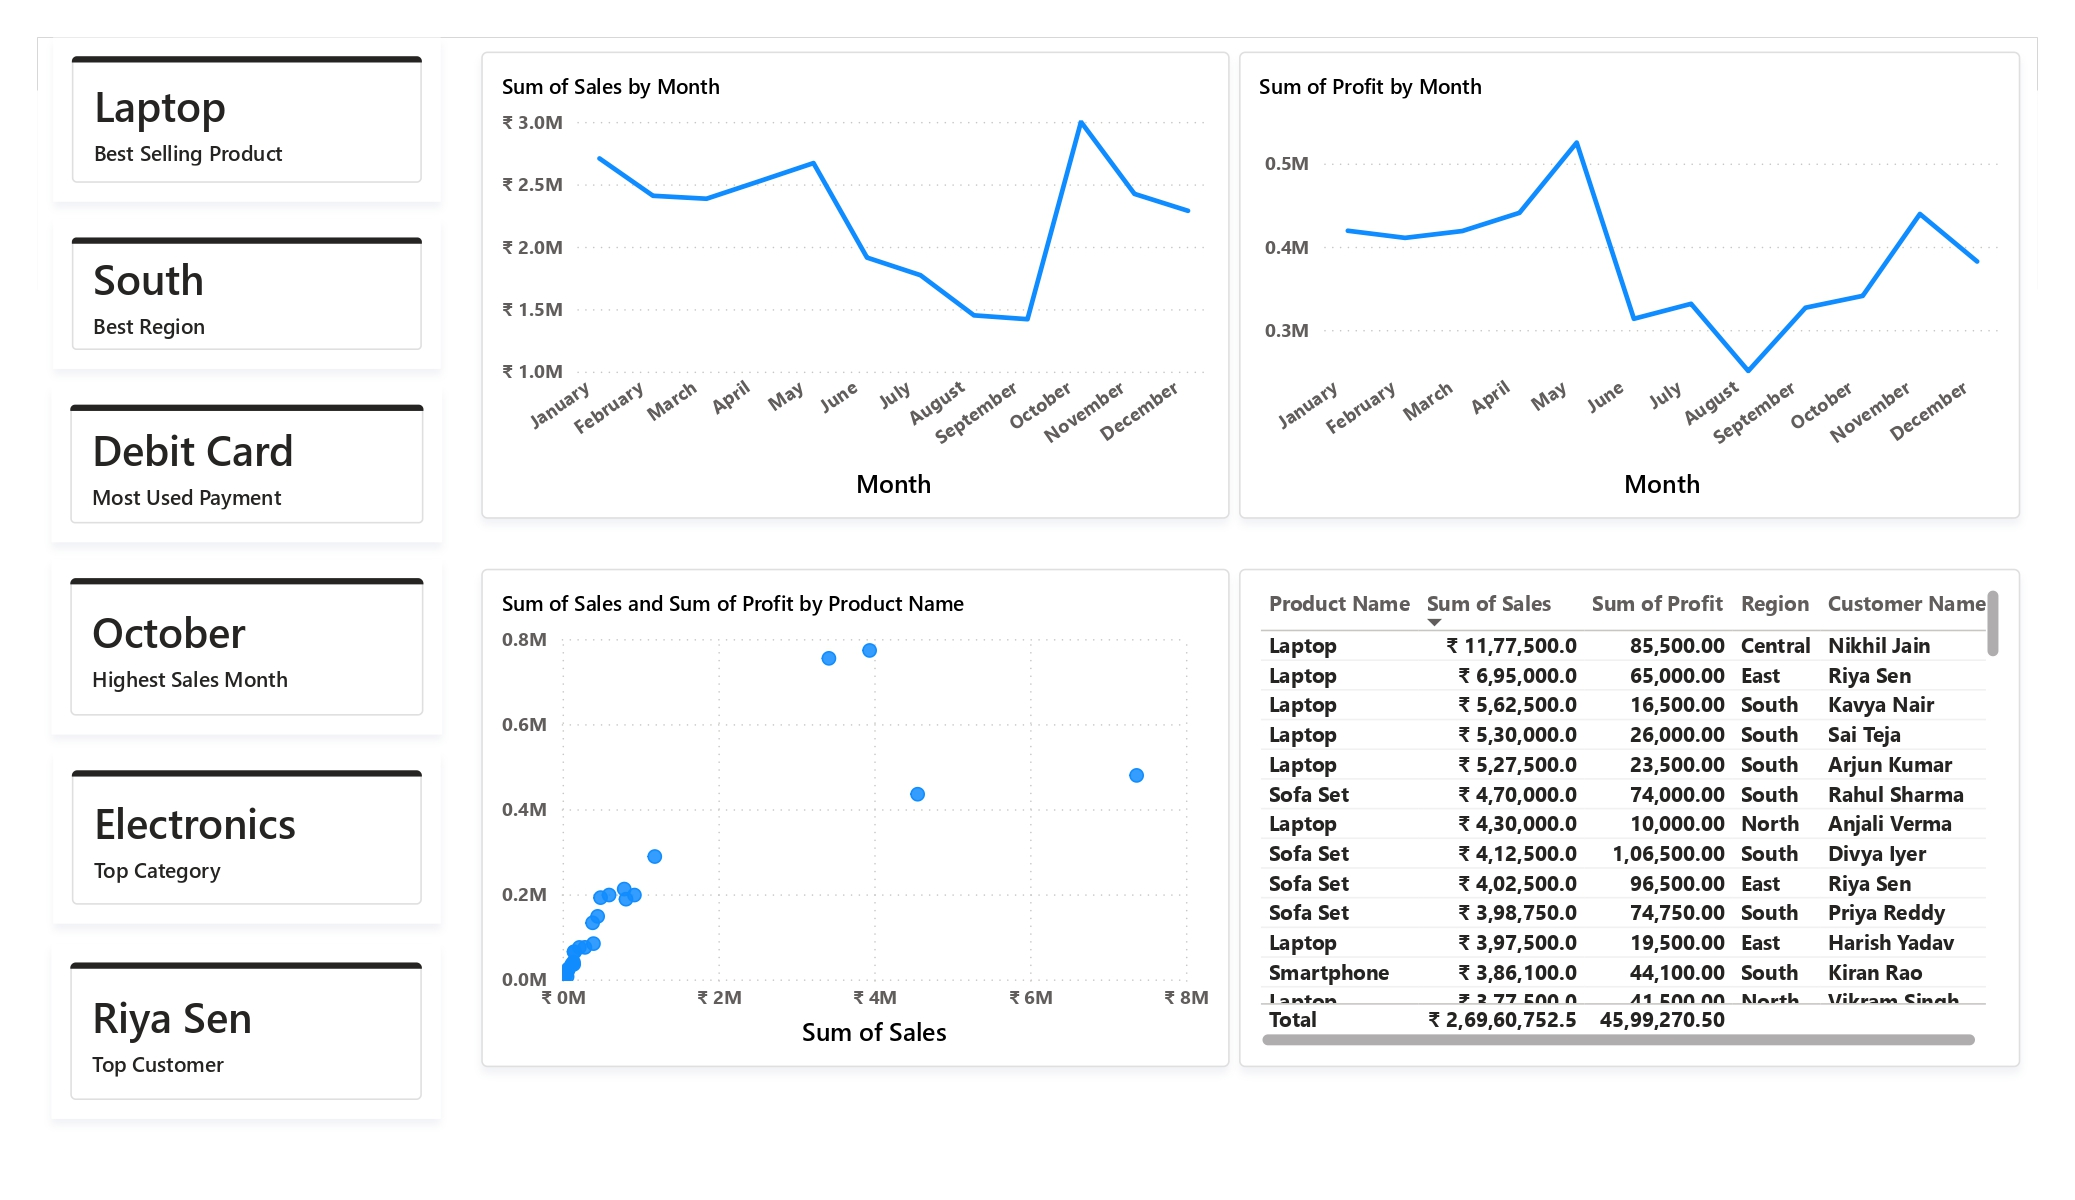

The dashboard page shown, as its layout file describes it:
{"tool":"powerbi","page":{"name":"Business Insights & Executive Summary","canvas":[1280,720],"ordinal":6},"visuals":[{"type":"cardVisual","fields":{"Data":["Products.Best Selling Product"]},"box":[9.8,0,248.2,105.2],"z":0},{"type":"cardVisual","fields":{"Data":["Customers.Most Used Payment"]},"box":[8.6,222.6,250.7,100.3],"z":1000},{"type":"cardVisual","fields":{"Data":["Customers.Highest Sales Month"]},"box":[8.6,333.8,250.7,112.5],"z":2000},{"type":"cardVisual","fields":{"Data":["Customers.Best Region"]},"box":[9.8,116.2,248.2,95.4],"z":3000},{"type":"cardVisual","fields":{"Data":["Customers.Top Customer"]},"box":[8.6,579.6,249.5,112.5],"z":4000},{"type":"cardVisual","fields":{"Data":["Customers.Top Category"]},"box":[9.8,457.3,248.2,110.1],"z":5000},{"type":"lineChart","fields":{"Category":["Orders.Order Date.Variation.Date Hierarchy.Month","Orders.Order Date.Variation.Date Hierarchy.Day"],"Y":["Sum(Orders.Sales)"]},"box":[283.7,8.6,479.4,299.6],"z":6000},{"type":"lineChart","fields":{"Category":["Orders.Order Date.Variation.Date Hierarchy.Month","Orders.Order Date.Variation.Date Hierarchy.Day"],"Y":["Sum(Orders.Profit)"]},"box":[769.2,8.6,500.1,299.6],"z":7000},{"type":"scatterChart","fields":{"X":["Sum(Orders.Sales)"],"Y":["Sum(Orders.Profit)"],"Category":["Products.Product Name"]},"box":[283.7,339.9,479.4,319.2],"z":8000},{"type":"tableEx","fields":{"Values":["Products.Product Name","Sum(Orders.Sales)","Sum(Orders.Profit)","Regions.Region","Customers.Customer Name"]},"box":[769.2,339.9,500.1,319.2],"z":9000}]}

Visuals, with their boxes on the page's 1280x720 design canvas (x1, y1, x2, y2). These are canvas units, not pixel positions in the 2075x1200 screenshot, which may show the page scaled, cropped or inside an application window:
cardVisual - Products.Best Selling Product: [left=10, top=0, right=258, bottom=105]
cardVisual - Customers.Most Used Payment: [left=9, top=223, right=259, bottom=323]
cardVisual - Customers.Highest Sales Month: [left=9, top=334, right=259, bottom=446]
cardVisual - Customers.Best Region: [left=10, top=116, right=258, bottom=212]
cardVisual - Customers.Top Customer: [left=9, top=580, right=258, bottom=692]
cardVisual - Customers.Top Category: [left=10, top=457, right=258, bottom=567]
lineChart - Orders.Order Date.Variation.Date Hierarchy.Month x Orders.Order Date.Variation.Date Hierarchy.Day: [left=284, top=9, right=763, bottom=308]
lineChart - Orders.Order Date.Variation.Date Hierarchy.Month x Orders.Order Date.Variation.Date Hierarchy.Day: [left=769, top=9, right=1269, bottom=308]
scatterChart - Sum(Orders.Sales) x Sum(Orders.Profit): [left=284, top=340, right=763, bottom=659]
tableEx - Products.Product Name x Sum(Orders.Sales): [left=769, top=340, right=1269, bottom=659]
